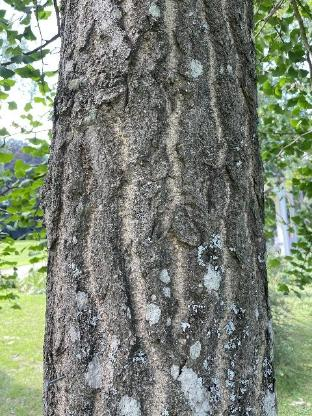tree: (38, 0, 284, 416)
